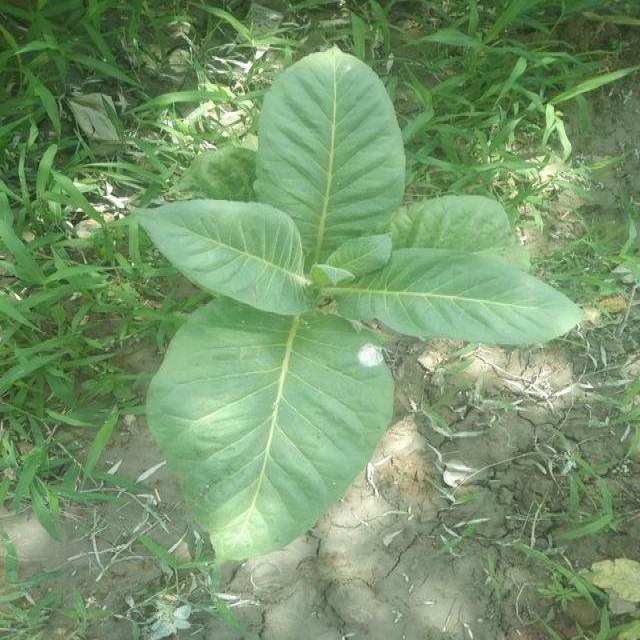crop: (135, 45, 588, 575)
